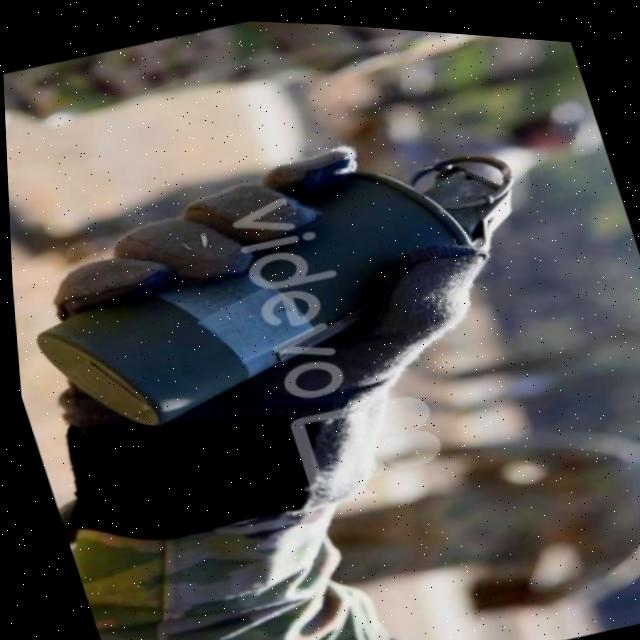grenade: (3, 97, 572, 475)
